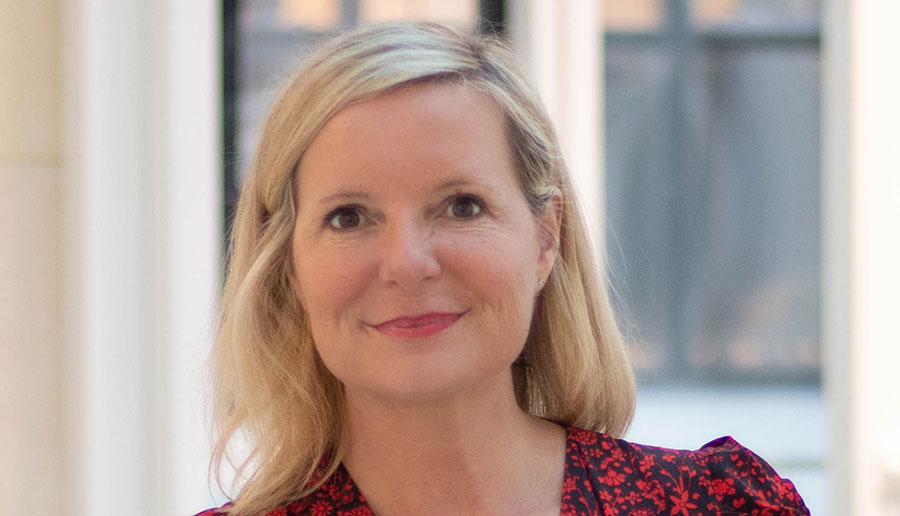without_mask: (308, 149, 512, 360)
